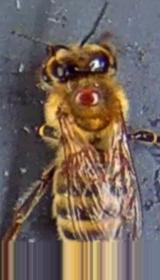varroa_mite: (74, 76, 108, 117)
